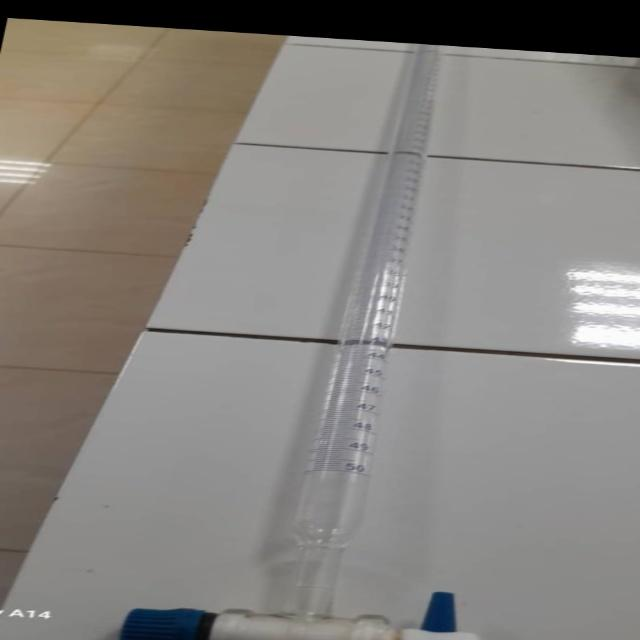Biurette: (82, 41, 628, 640)
